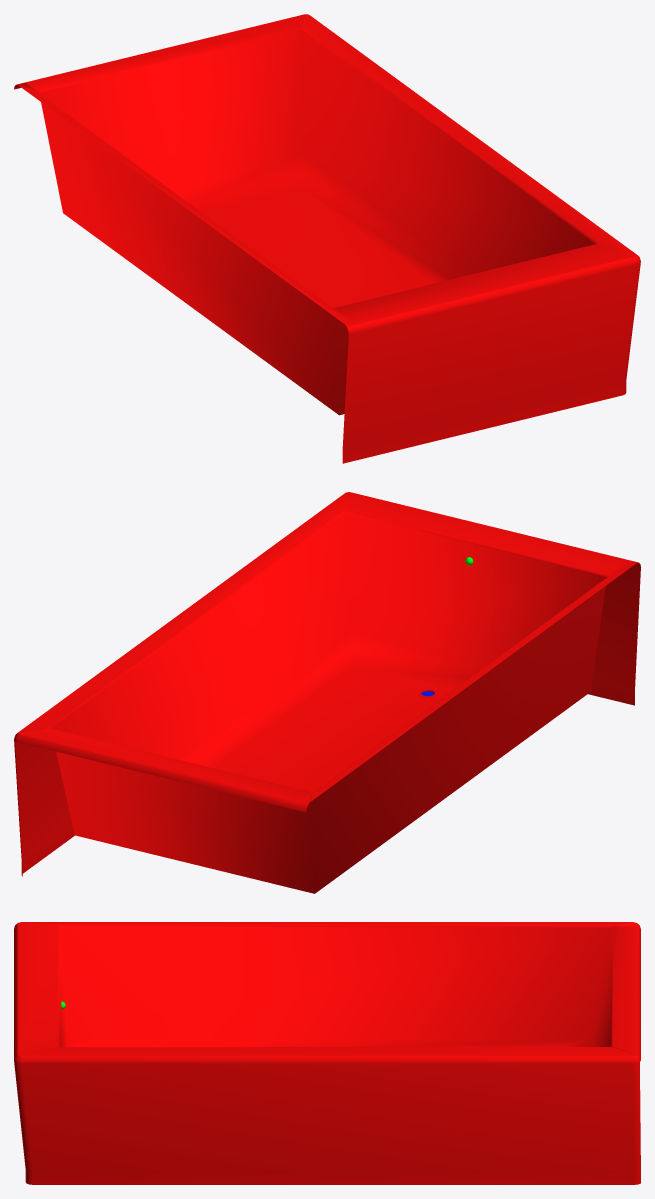
File: Bath_tub.fbx
The picture shows the model from 3 angles, top to bottom: view 1: azimuth 30°, elevation 25°; view 2: azimuth 150°, elevation 25°; view 3: azimuth 270°, elevation 25°; orthographic projection. The views are drawn at different scales.
Visible parts, largest first — view 1: Bath_tub; view 2: Bath_tub; view 3: Bath_tub.
Part boxes in pixels (box(x1,y1,x2,y2)): Bath_tub: box(14, 14, 640, 463); Bath_tub: box(14, 492, 640, 893); Bath_tub: box(14, 922, 640, 1184).
Size of the model in its own units: 187 by 85.57 by 368.
